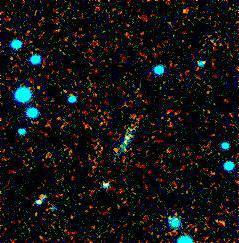star: (174, 0, 204, 20)
